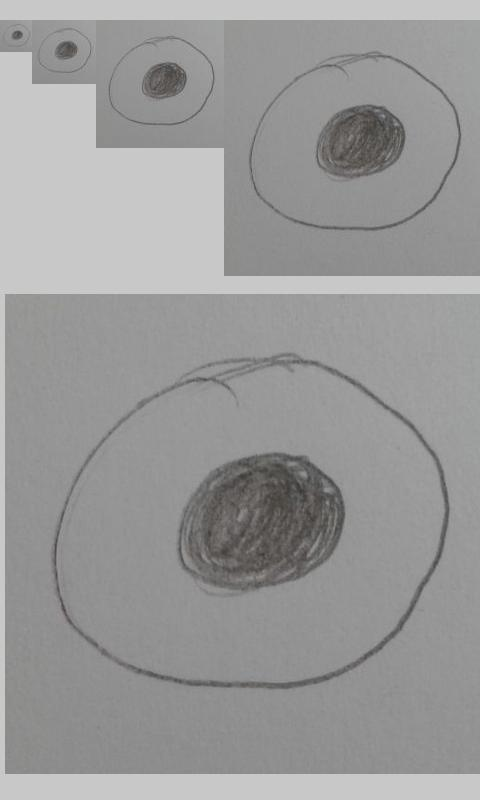radio_button: (49, 350, 453, 694), (246, 46, 464, 235), (107, 35, 216, 127), (37, 26, 94, 74), (2, 23, 31, 48)
